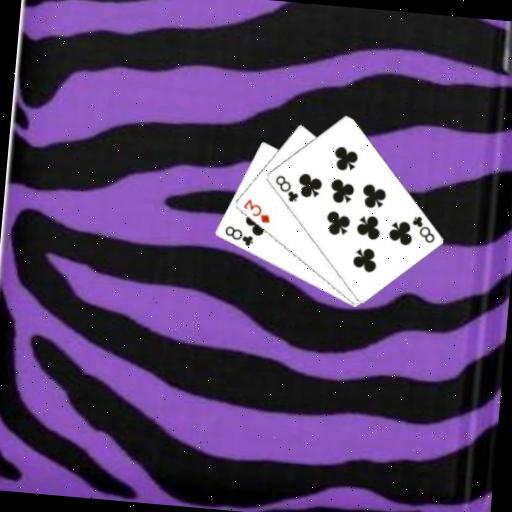3D: (238, 196, 273, 226)
8C: (270, 171, 302, 204), (407, 213, 438, 246), (220, 223, 256, 249)
